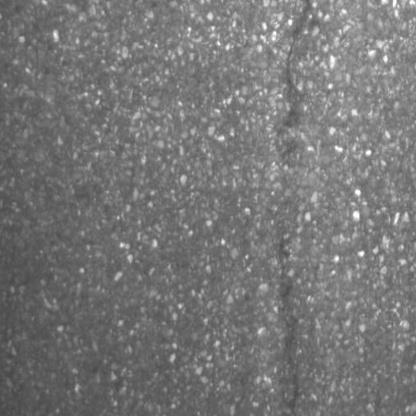Cracks: (276, 227, 307, 416), (282, 0, 319, 112)
